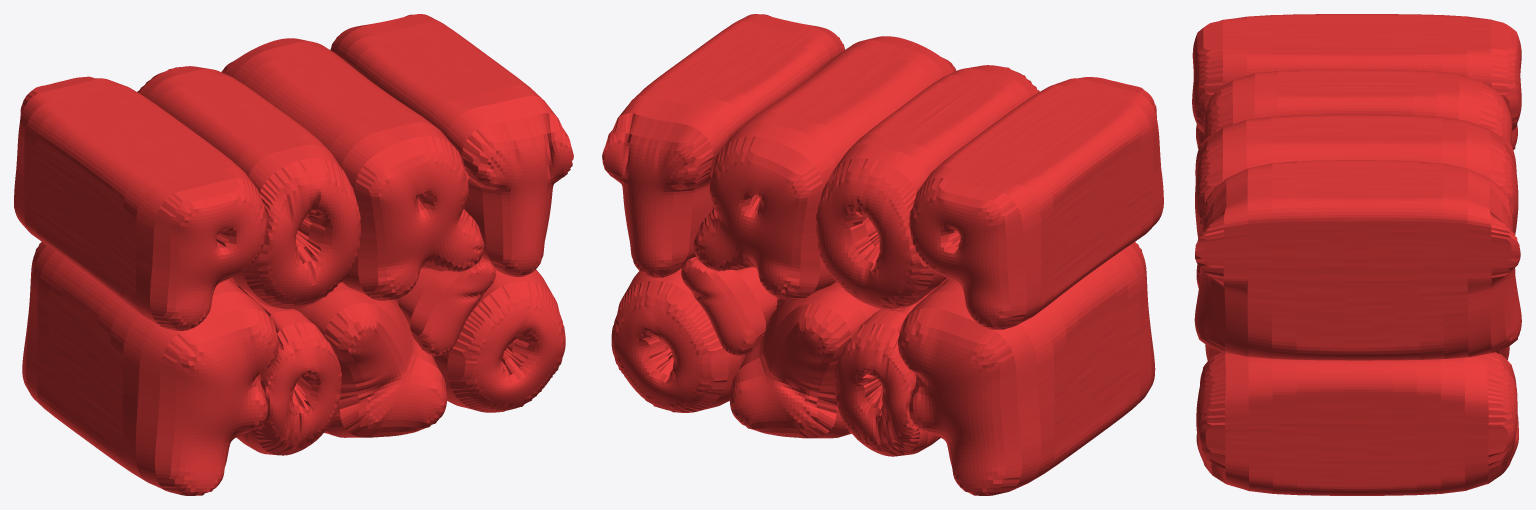
Rendered from portfolio_bubble_text_mobile.glb.
3 renders of one model, left to right at view 1: azimuth 30°, elevation 25°; view 2: azimuth 150°, elevation 25°; view 3: azimuth 270°, elevation 25°, orthographic.
Parts seen in each view (by area): view 1: test; view 2: test; view 3: test.
Boxes of the visible parts, x1,y1,x2,y2 form: test: (14,14,573,495); test: (602,14,1163,495); test: (1192,14,1521,495).
Bounding box in the file's own units: 5.79 × 4.03 × 4.07.
